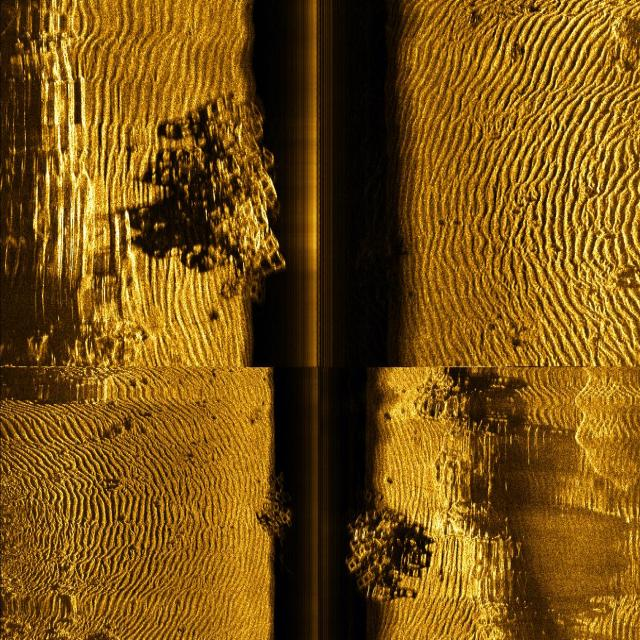artificial reef: (188, 87, 300, 311), (350, 491, 416, 608), (261, 461, 301, 558)
